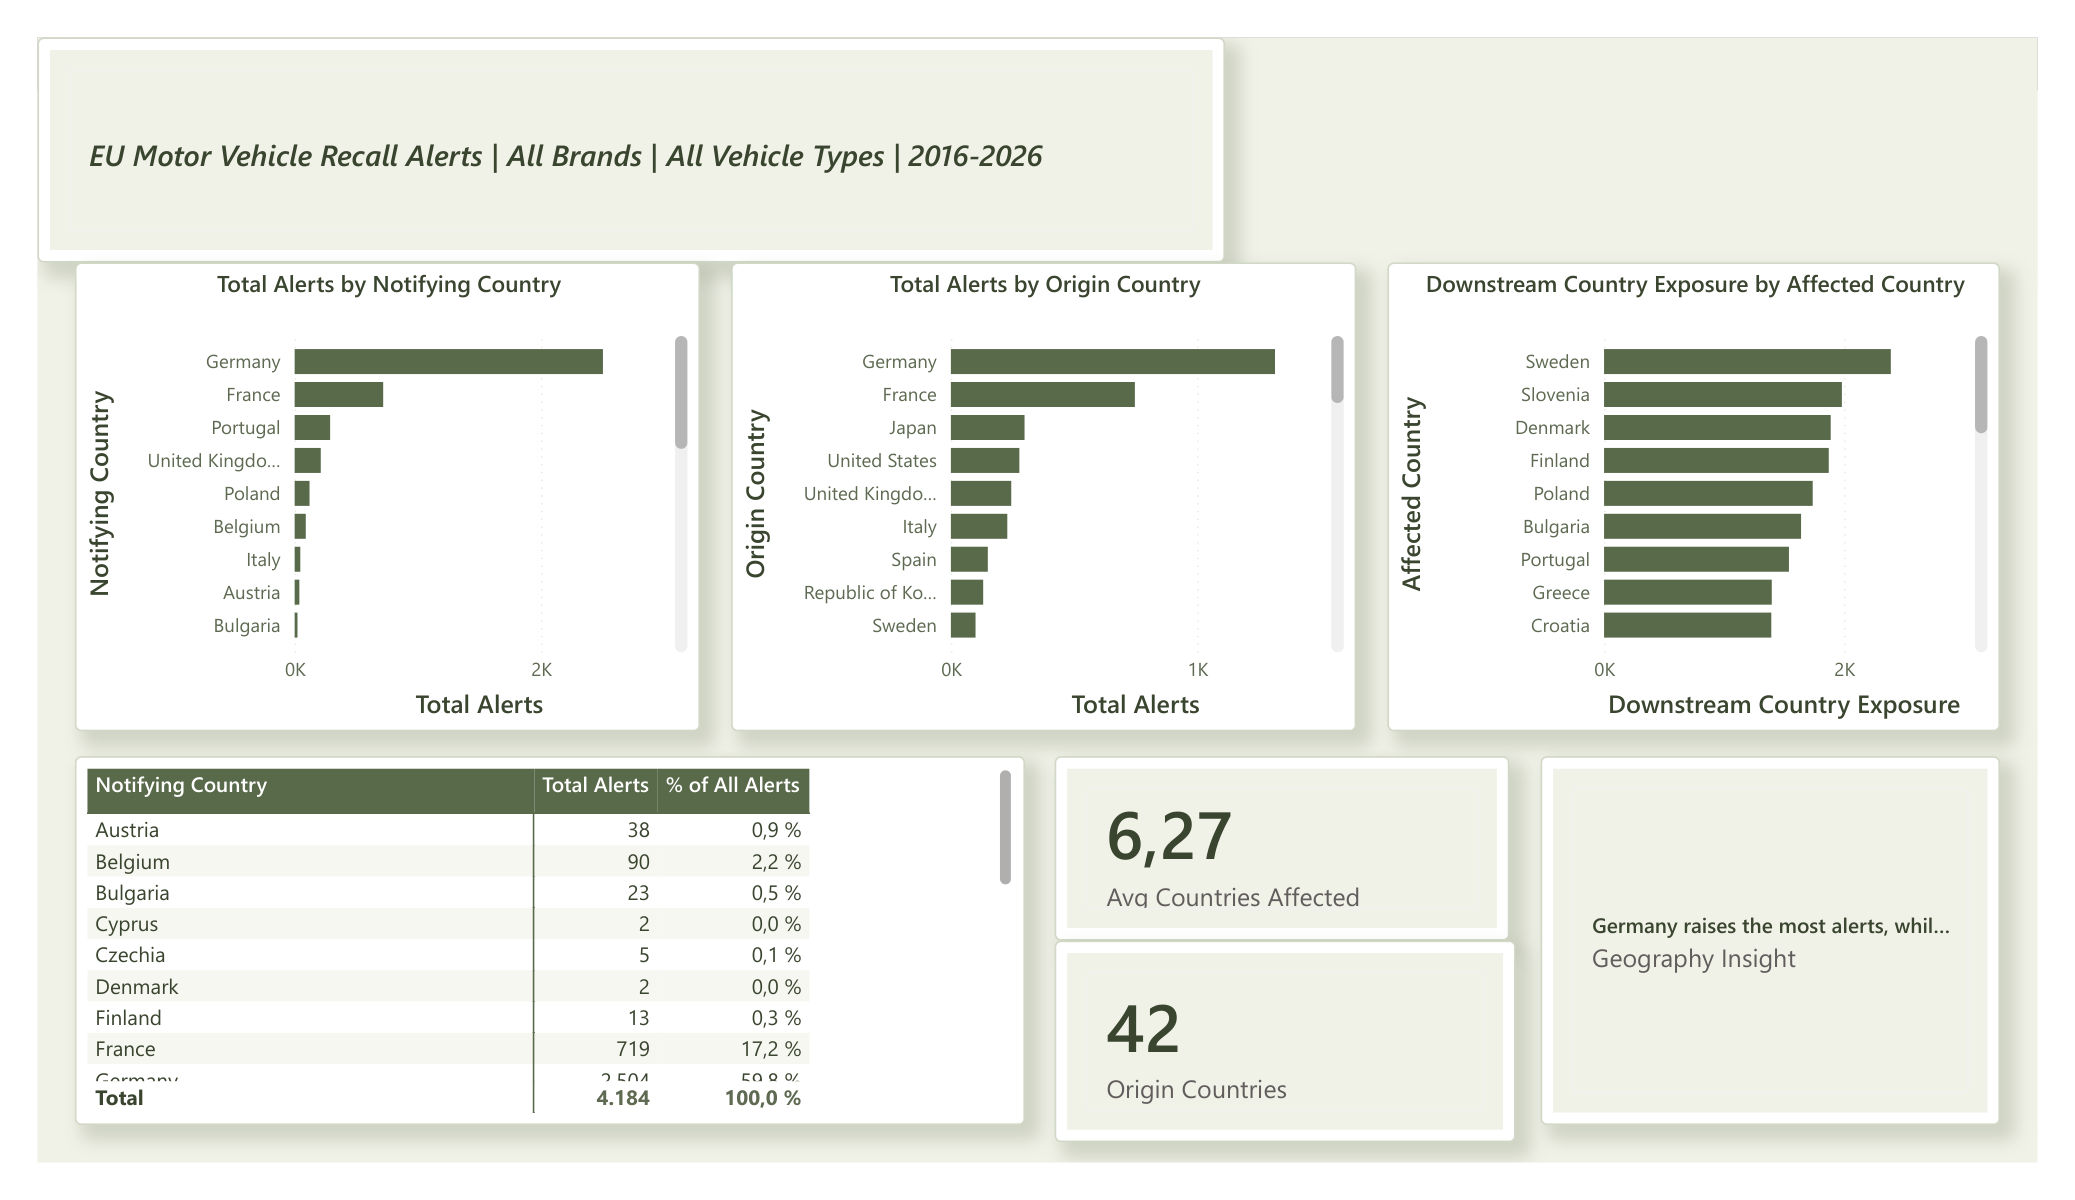

Layout of this report page (visuals, bound fields, positions):
{"tool":"powerbi","page":{"name":"Geography","canvas":[1280,720],"ordinal":2},"visuals":[{"type":"cardVisual","fields":{"Data":["_Measures.Dynamic Title"]},"box":[0,0,760.1,143.6],"z":0},{"type":"barChart","fields":{"Category":["Recall.Notifying Country"],"Y":["_Measures.Total Alerts"]},"box":[24,144,400,300],"z":1000},{"type":"barChart","fields":{"Category":["Recall.Origin Country"],"Y":["_Measures.Total Alerts"]},"box":[444,144,400,300],"z":2000},{"type":"barChart","fields":{"Category":["AffectedCountries.Affected Country"],"Y":["_Measures.Downstream Country Exposure"]},"box":[864,144,392,300],"z":3000},{"type":"pivotTable","fields":{"Rows":["Recall.Notifying Country"],"Values":["_Measures.Total Alerts","_Measures.% of All Alerts"]},"box":[24,460,608,236],"z":4000},{"type":"cardVisual","fields":{"Data":["_Measures.Avg Countries Affected"]},"box":[651.5,459.7,290.8,118.2],"z":5000},{"type":"cardVisual","fields":{"Data":["_Measures.Origin Countries"]},"box":[651.5,577.9,294.4,129.1],"z":6000},{"type":"cardVisual","fields":{"Data":["_Measures.Geography Insight"]},"box":[962,460,294,236],"z":7000}]}

Visuals, with their boxes on the page's 1280x720 design canvas (x1, y1, x2, y2). These are canvas units, not pixel positions in the 2075x1200 screenshot, which may show the page scaled, cropped or inside an application window:
cardVisual - _Measures.Dynamic Title: left=0, top=0, right=760, bottom=144
barChart - Recall.Notifying Country x _Measures.Total Alerts: left=24, top=144, right=424, bottom=444
barChart - Recall.Origin Country x _Measures.Total Alerts: left=444, top=144, right=844, bottom=444
barChart - AffectedCountries.Affected Country x _Measures.Downstream Country Exposure: left=864, top=144, right=1256, bottom=444
pivotTable - Recall.Notifying Country x _Measures.Total Alerts: left=24, top=460, right=632, bottom=696
cardVisual - _Measures.Avg Countries Affected: left=652, top=460, right=942, bottom=578
cardVisual - _Measures.Origin Countries: left=652, top=578, right=946, bottom=707
cardVisual - _Measures.Geography Insight: left=962, top=460, right=1256, bottom=696
